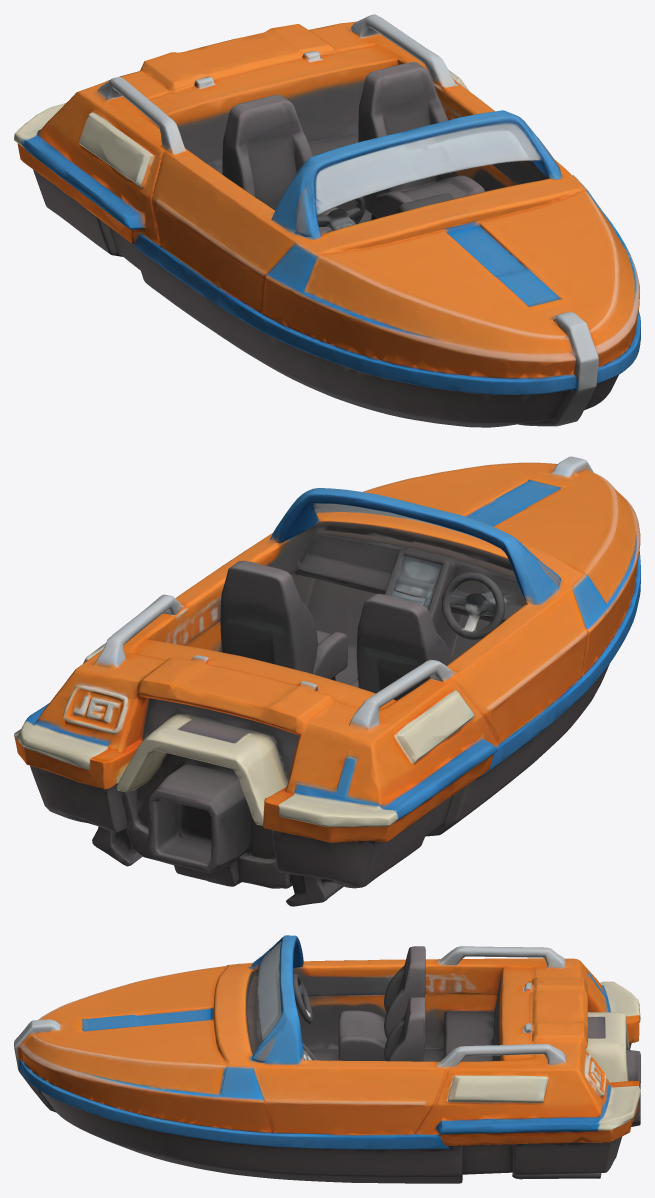
Rendered from hero-boat.glb.
3 views of the same model, one above another, from view 1: azimuth 30°, elevation 25°; view 2: azimuth 150°, elevation 25°; view 3: azimuth 270°, elevation 25° (orthographic). The views are drawn at different scales.
Visible parts, largest first — view 1: boat; view 2: boat; view 3: boat.
Boxes of the visible parts, x1,y1,x2,y2 form: boat: (14, 14, 640, 427); boat: (14, 456, 640, 906); boat: (14, 935, 640, 1183).
Size of the model in its own units: 2.04 by 1.2 by 3.8.
1 material, 1 textured.
